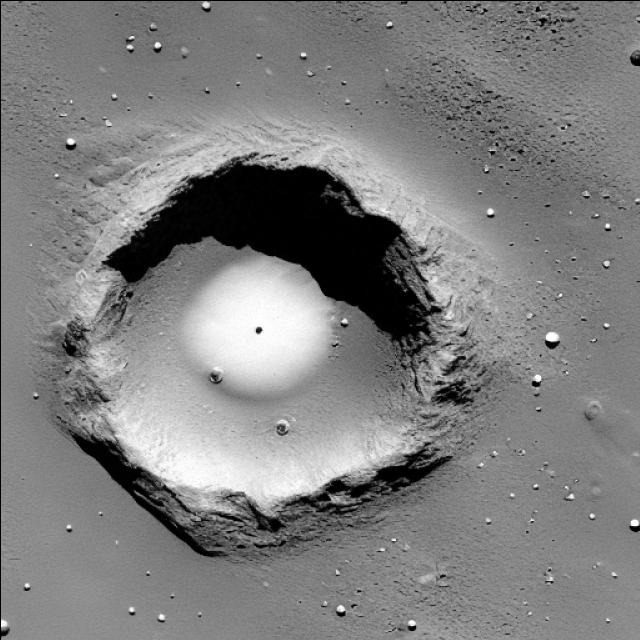crater: (88, 158, 450, 498)
